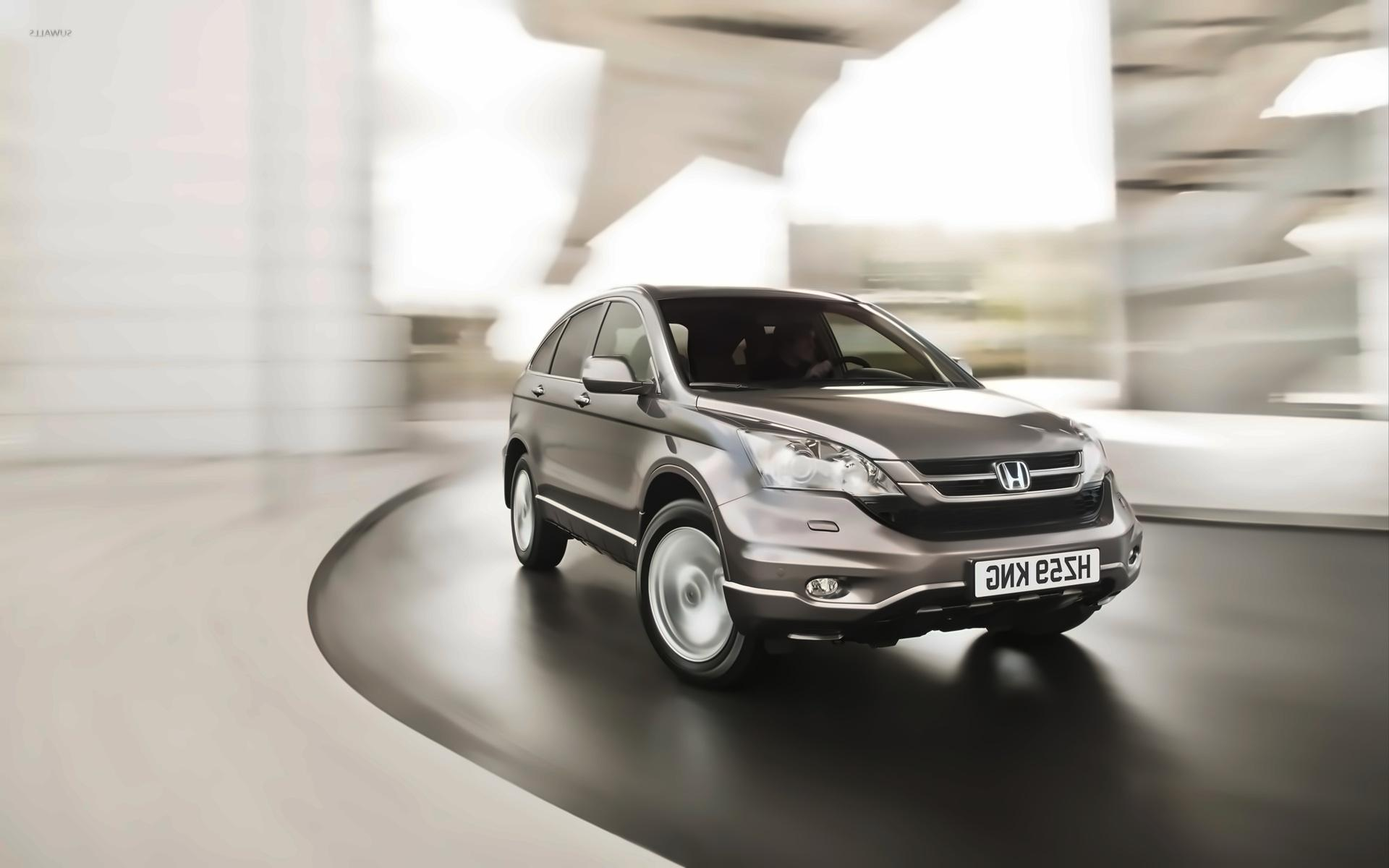Car hood: (693, 373, 1092, 459)
Driver-s door - -F-R-: (554, 250, 678, 574)
Fender - -F-R-: (638, 371, 750, 540)
Front bumper: (708, 479, 1147, 651)
Headlight - -L-: (1075, 428, 1111, 500)
Headlight - -R-: (731, 418, 918, 507)
Passenger-s door - -R-R-: (527, 272, 617, 552)
Side bumper - -R-: (520, 485, 652, 574)
Side mirror - -R-: (579, 357, 661, 400)
